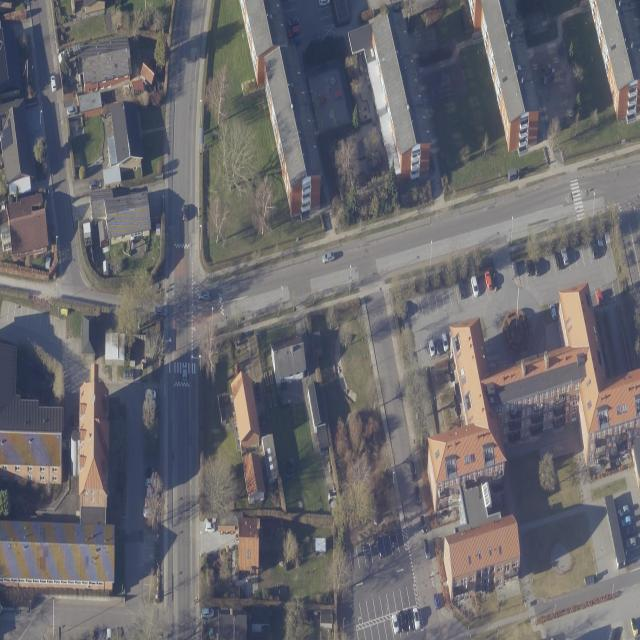car: (321, 250, 336, 266), (470, 275, 480, 298), (484, 269, 494, 292), (458, 279, 467, 301), (399, 610, 408, 632), (412, 608, 421, 630), (88, 178, 102, 192), (441, 331, 449, 354), (630, 617, 639, 637), (410, 460, 418, 482), (198, 290, 212, 302), (407, 609, 414, 632), (428, 338, 436, 358), (524, 258, 532, 278), (554, 251, 562, 271), (391, 614, 399, 634), (423, 540, 431, 560), (618, 504, 630, 517), (201, 608, 214, 620), (67, 104, 78, 118), (533, 258, 541, 277), (549, 303, 557, 322), (415, 485, 422, 506), (596, 289, 604, 307), (204, 522, 216, 534), (590, 243, 598, 260), (420, 515, 427, 534), (625, 537, 637, 548), (561, 250, 569, 266), (50, 74, 57, 92), (623, 527, 634, 538), (436, 338, 442, 357), (434, 594, 441, 610), (621, 516, 632, 526), (182, 365, 188, 382), (183, 204, 188, 222)
